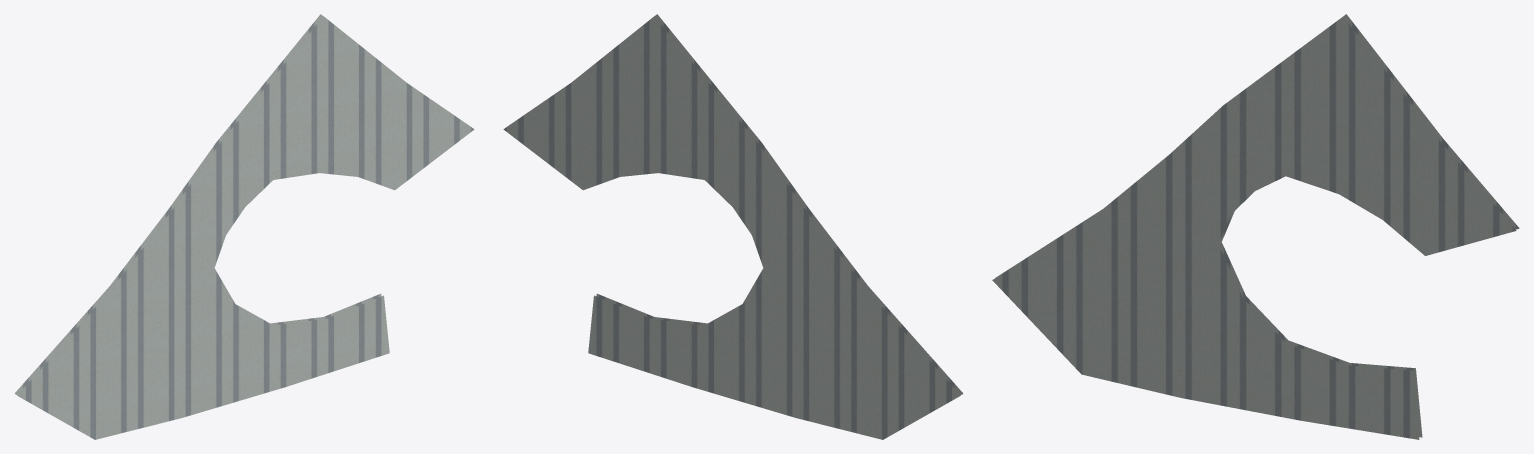
The model's file is floor_61.obj.
3 views of the same model, side by side, from view 1: azimuth 30°, elevation 25°; view 2: azimuth 150°, elevation 25°; view 3: azimuth 330°, elevation 25° (orthographic). The views are drawn at different scales.
Parts seen in each view (by area): view 1: floor_61; view 2: floor_61; view 3: floor_61.
Part boxes in pixels (x1,y1,x2,y2): floor_61: [14, 14, 474, 439]; floor_61: [503, 14, 963, 439]; floor_61: [992, 14, 1519, 439].
Bounding box in the file's own units: 9.62 × 7.4 × 0.1.
1 material, 1 textured.
